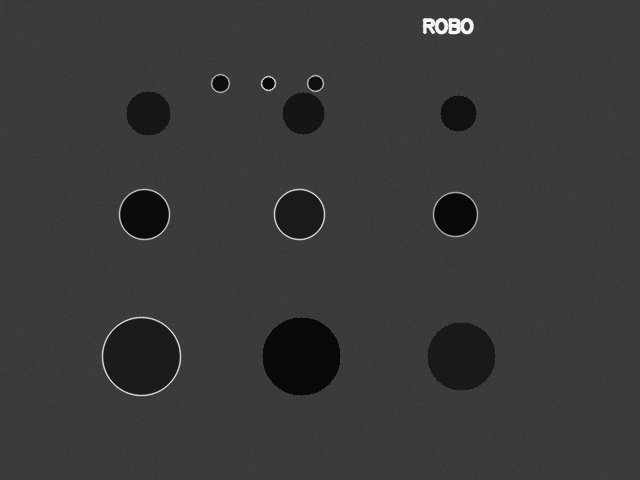hole: (102, 317, 180, 395), (262, 317, 340, 395), (427, 322, 495, 390), (119, 189, 169, 239), (274, 189, 324, 239), (126, 91, 170, 135), (433, 192, 477, 236), (282, 92, 324, 134), (440, 95, 476, 131), (211, 74, 229, 92), (307, 75, 323, 91), (261, 76, 275, 90)
